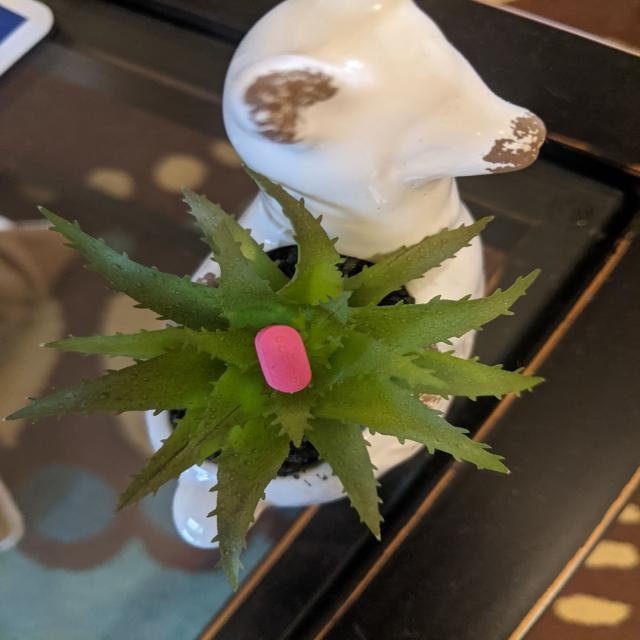non-organic waste: (252, 324, 312, 394)
